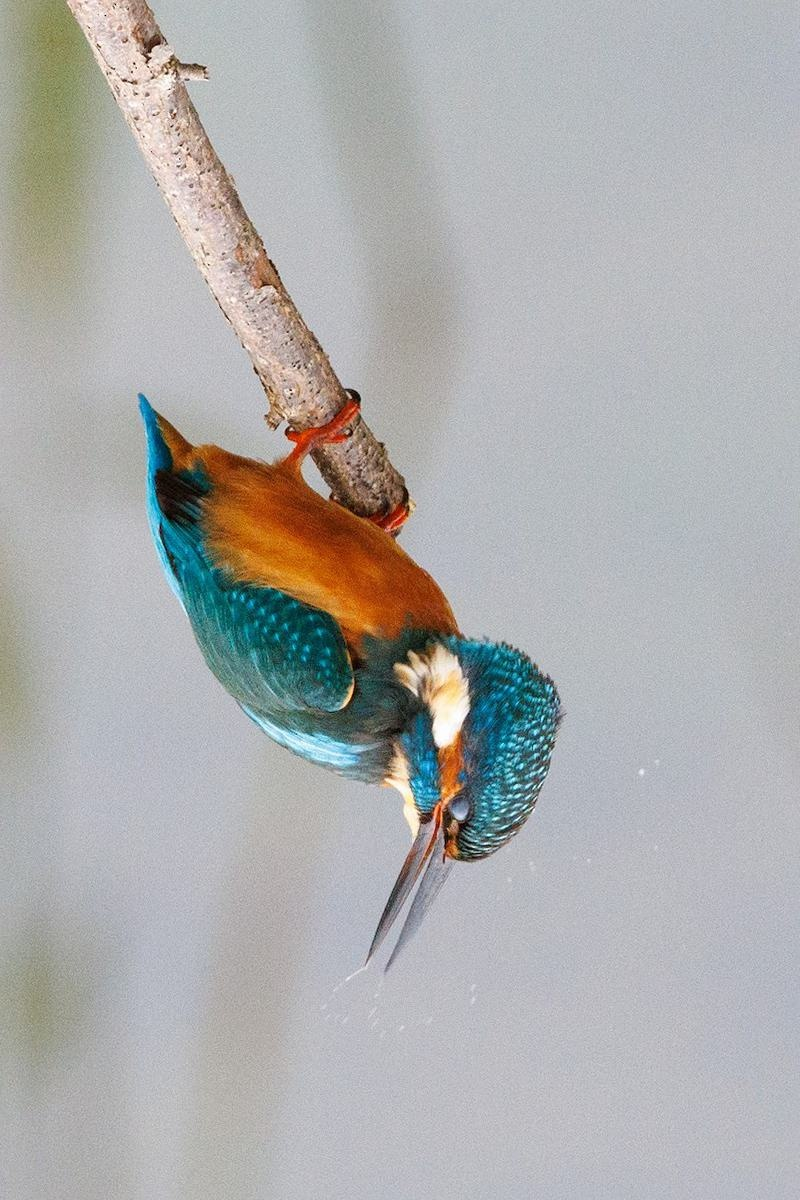kingfisher: (121, 393, 580, 980)
